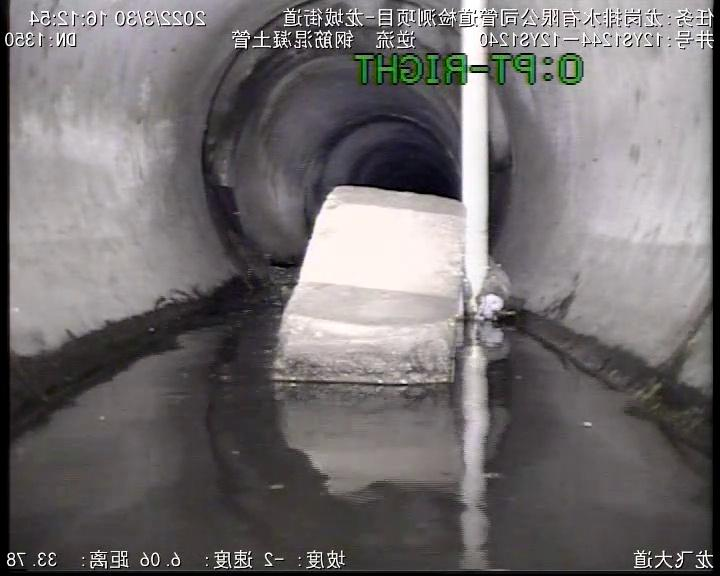YWCR: (459, 0, 489, 313)
ZAW: (275, 186, 464, 384)
